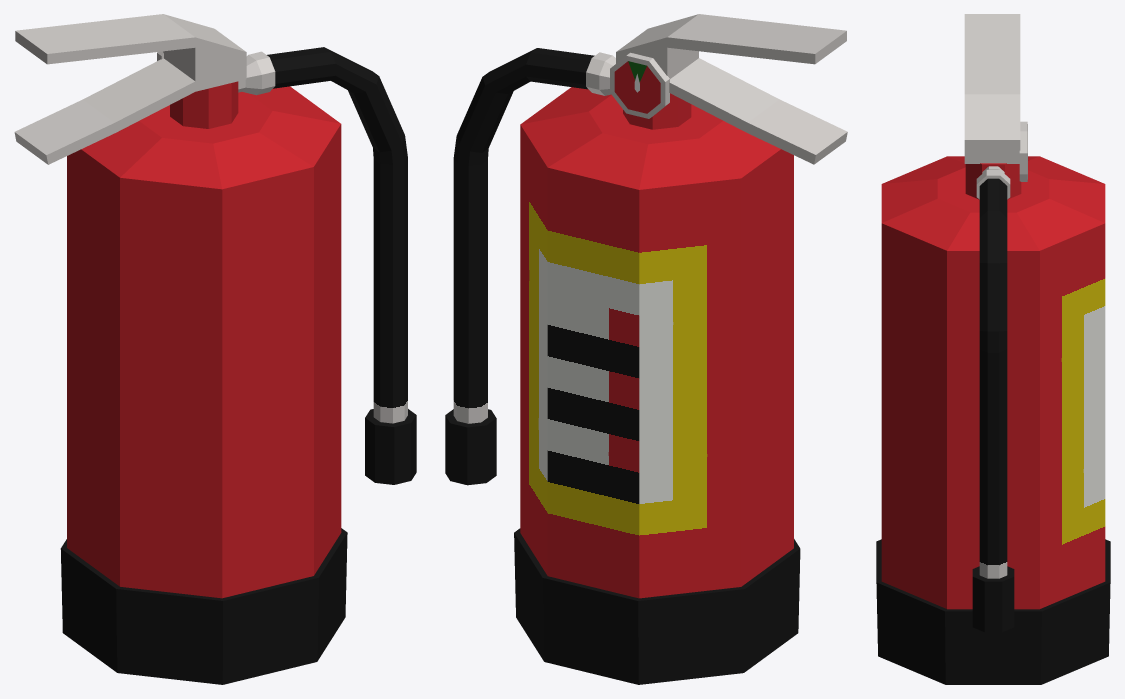
3 renders of one model, left to right at view 1: azimuth 30°, elevation 25°; view 2: azimuth 150°, elevation 25°; view 3: azimuth 270°, elevation 25°, orthographic. The views are drawn at different scales.
Visible parts, largest first — view 1: cuerpo, manivela, manguera, punta manguera, cabezal, boquilla; view 2: cuerpo, manivela, manguera, punta manguera, medidor, cabezal, boquilla; view 3: cuerpo, manguera, manivela, punta manguera, cabezal, medidor, boquilla.
Part boxes in pixels (<box>): cuerpo: <box>60,86,347,684</box>; manivela: <box>14,14,246,164</box>; manguera: <box>267,47,407,423</box>; punta manguera: <box>365,409,416,484</box>; cabezal: <box>170,81,238,128</box>; boquilla: <box>238,51,275,95</box>; cuerpo: <box>514,87,800,684</box>; manivela: <box>616,14,847,164</box>; manguera: <box>453,48,594,423</box>; punta manguera: <box>445,409,496,485</box>; medidor: <box>610,52,669,118</box>; cabezal: <box>623,93,691,129</box>; boquilla: <box>586,52,615,95</box>; cuerpo: <box>876,156,1110,684</box>; manguera: <box>979,178,1007,578</box>; manivela: <box>964,14,1020,163</box>; punta manguera: <box>972,566,1014,632</box>; cabezal: <box>965,163,1021,199</box>; medidor: <box>1019,121,1027,181</box>; boquilla: <box>976,166,1010,199</box>.
Size of the model in its own units: 0.8627 by 1.35 by 0.5231.
2 materials, 1 textured.
